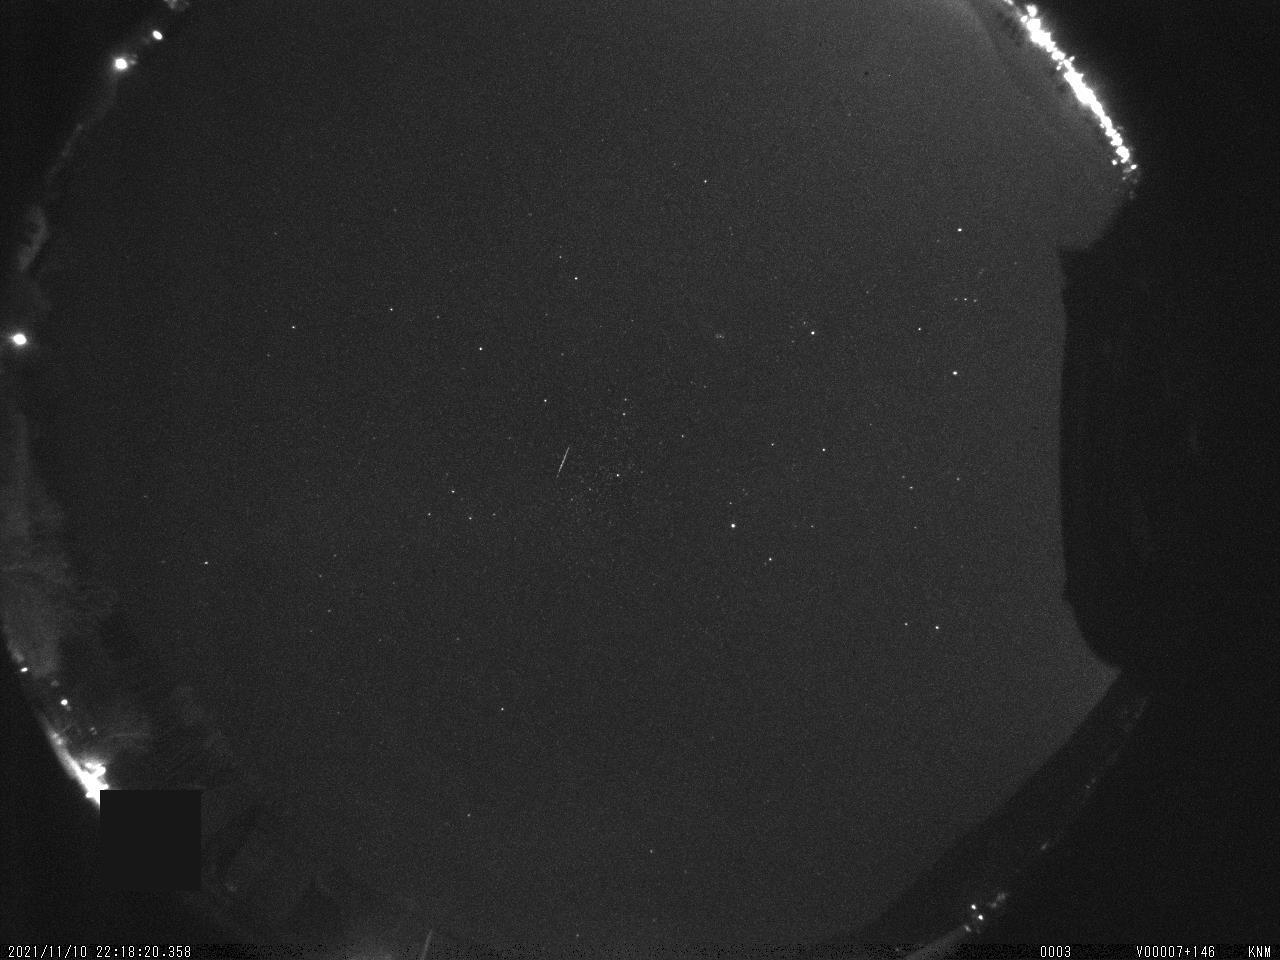Meteor: (548, 436, 578, 494)
